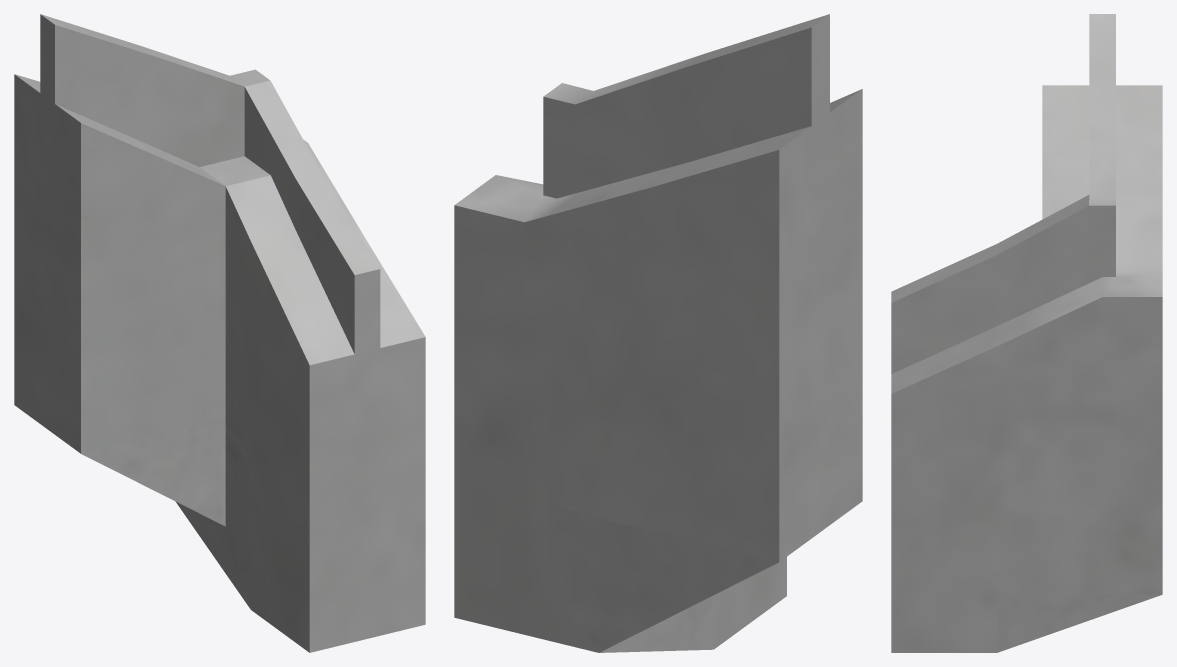
The model's file is UpDownLeft.fbx.
The picture shows the model from 3 angles, left to right: view 1: azimuth 30°, elevation 25°; view 2: azimuth 150°, elevation 25°; view 3: azimuth 270°, elevation 25°; orthographic projection. The views are drawn at different scales.
Visible parts, largest first — view 1: StairConcreteUpDownLLeft; view 2: StairConcreteUpDownLLeft; view 3: StairConcreteUpDownLLeft.
Part boxes in pixels (box(x1,y1,x2,y2)): StairConcreteUpDownLLeft: box(14, 14, 425, 652); StairConcreteUpDownLLeft: box(454, 14, 862, 652); StairConcreteUpDownLLeft: box(891, 14, 1162, 652).
Size of what is drawn, in the model's own units: 84.66 by 181 by 84.87.
